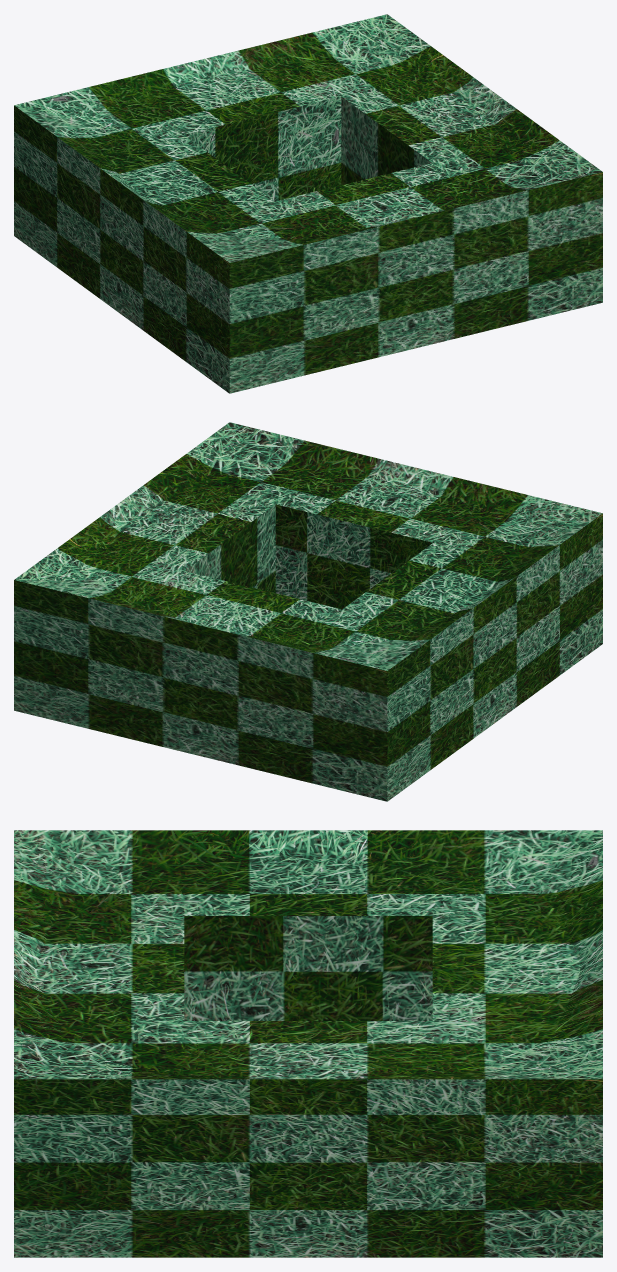
The model's file is Floor7HoleEdgeCircle.fbx.
3 renders of one model, top to bottom at view 1: azimuth 30°, elevation 25°; view 2: azimuth 150°, elevation 25°; view 3: azimuth 270°, elevation 25°, orthographic. The views are drawn at different scales.
Parts seen in each view (by area): view 1: Floor.007EdgeCircle.001; view 2: Floor.007EdgeCircle.001; view 3: Floor.007EdgeCircle.001.
Part boxes in pixels (bbox=[...]): Floor.007EdgeCircle.001: bbox=[14, 14, 602, 393]; Floor.007EdgeCircle.001: bbox=[14, 422, 602, 801]; Floor.007EdgeCircle.001: bbox=[14, 830, 602, 1257].
Bounding box in the file's own units: 150 × 50.16 × 150.
